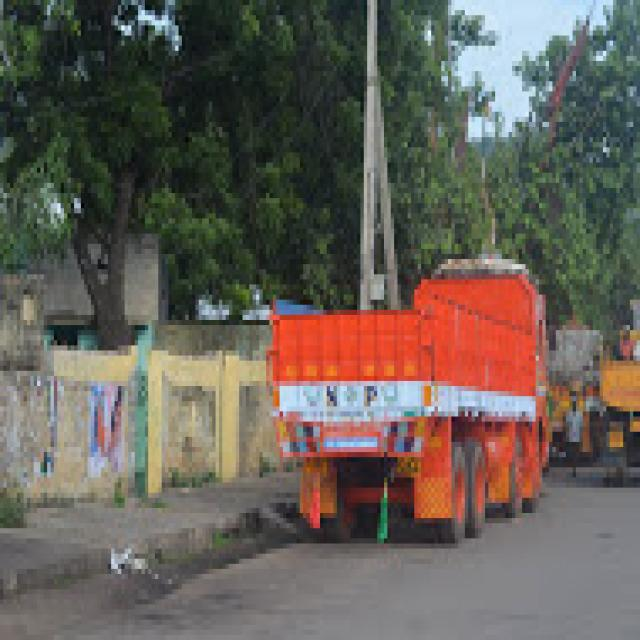truck_back: (262, 249, 550, 549), (593, 290, 640, 488), (544, 324, 603, 460)
